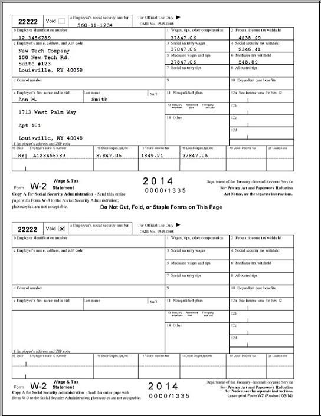checkbox: (57, 16, 67, 25), (57, 224, 67, 233)
textbox: (10, 101, 167, 147), (10, 308, 167, 354), (10, 246, 167, 288), (11, 38, 167, 80), (10, 283, 166, 299), (11, 25, 166, 41), (11, 75, 166, 91), (11, 233, 166, 249), (163, 111, 230, 147), (11, 144, 96, 161), (10, 351, 95, 368), (81, 88, 166, 104), (80, 295, 165, 311), (11, 295, 84, 312), (11, 88, 84, 104), (227, 25, 295, 41), (227, 257, 295, 273), (227, 270, 295, 286), (163, 26, 230, 42), (163, 38, 230, 54), (163, 50, 230, 66), (228, 39, 295, 55), (228, 50, 295, 66), (228, 62, 295, 78), (228, 75, 295, 91), (163, 62, 230, 78), (163, 88, 230, 104), (228, 88, 295, 104), (228, 101, 295, 117), (228, 125, 295, 141), (163, 101, 230, 117), (163, 233, 230, 249), (229, 233, 296, 249), (228, 245, 295, 261), (164, 246, 231, 262), (163, 258, 230, 274), (163, 271, 230, 287), (163, 283, 230, 299), (229, 283, 296, 299), (163, 295, 230, 311), (229, 296, 296, 312), (228, 308, 295, 324), (227, 321, 295, 336), (228, 113, 295, 128), (163, 308, 230, 323), (228, 334, 295, 349), (67, 14, 133, 29), (177, 351, 228, 368), (91, 144, 140, 160), (134, 144, 183, 160), (179, 144, 228, 160), (91, 352, 140, 368), (137, 352, 182, 369), (224, 144, 268, 160), (224, 351, 268, 367), (265, 351, 296, 368), (265, 144, 295, 159), (227, 296, 252, 312), (144, 87, 166, 104), (144, 295, 166, 312), (226, 123, 248, 140), (227, 332, 249, 348), (227, 112, 249, 128), (228, 100, 250, 116), (228, 88, 250, 104), (9, 144, 31, 160), (227, 307, 249, 323), (226, 319, 248, 335)
